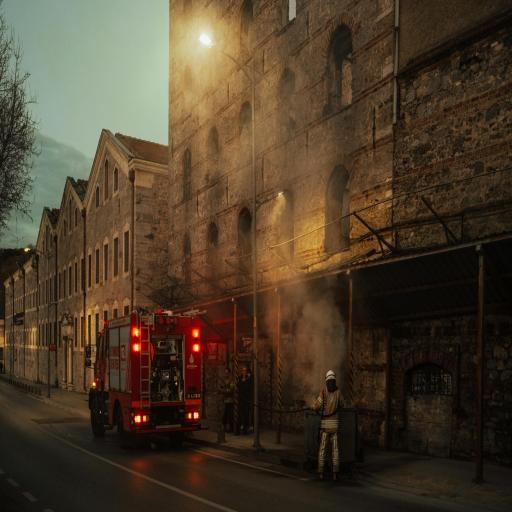smoke: (278, 280, 347, 409)
